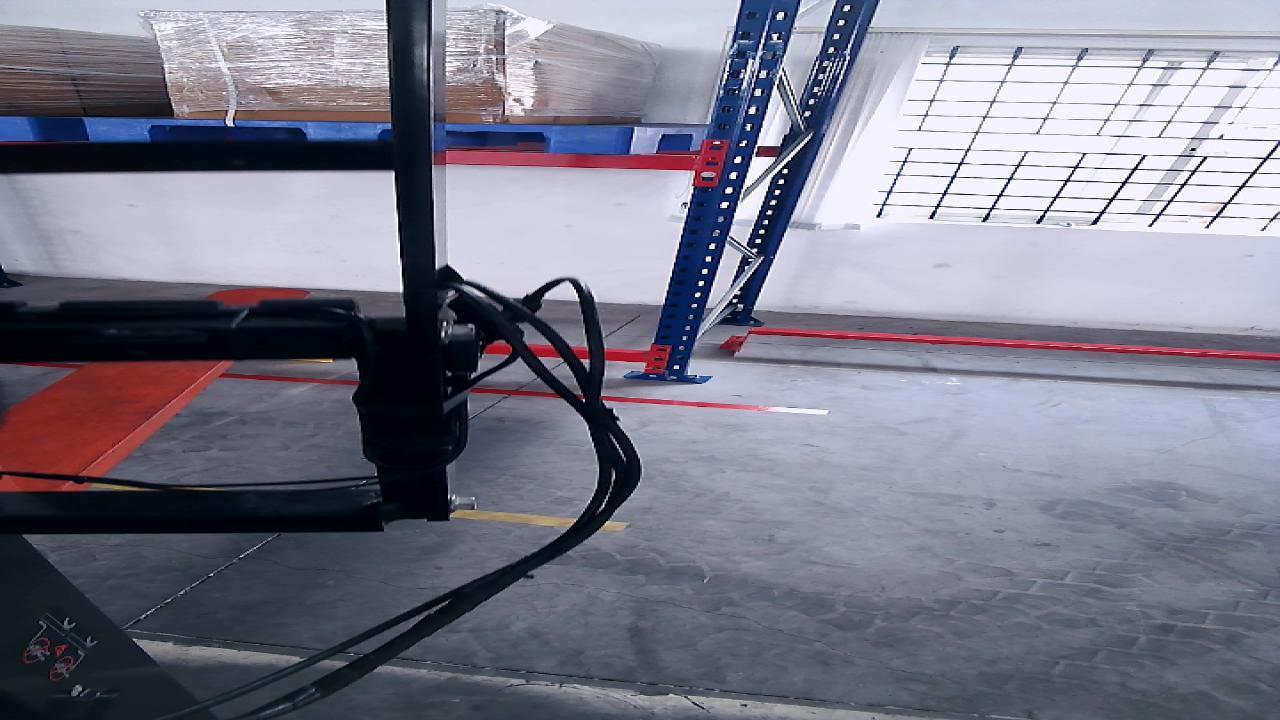small_pallet: (86, 118, 631, 155)
